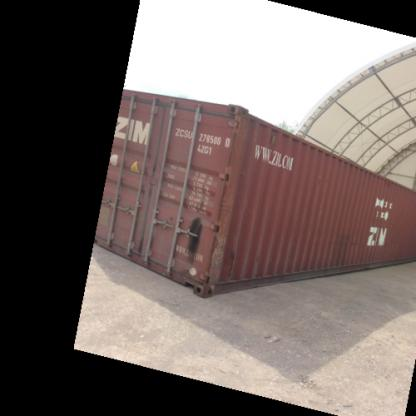Damage: (330, 224, 369, 264), (177, 212, 207, 262), (205, 226, 231, 278), (267, 124, 281, 148), (230, 247, 242, 269)
